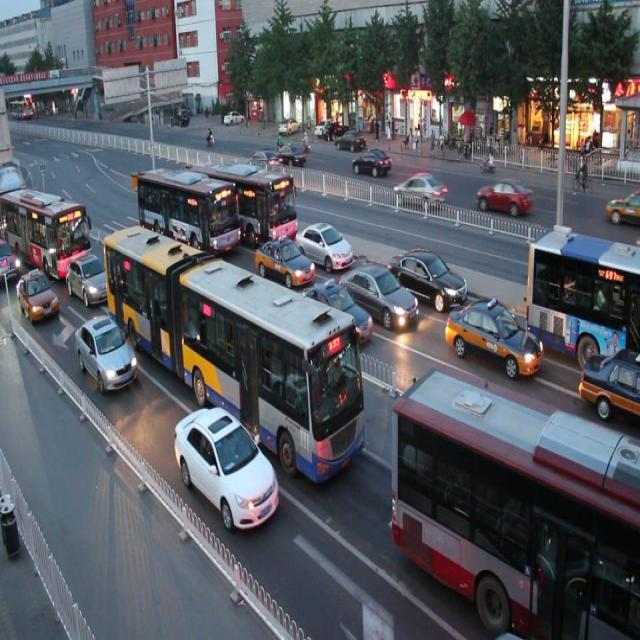car: (174, 402, 278, 528), (446, 294, 544, 382), (337, 258, 416, 331), (293, 278, 372, 349), (75, 312, 138, 394), (390, 243, 468, 309), (578, 345, 640, 419), (253, 230, 314, 289), (294, 214, 352, 273), (64, 251, 116, 307), (16, 270, 58, 320), (1, 238, 22, 292)
van: (102, 218, 366, 482), (392, 370, 640, 640), (524, 225, 640, 360), (136, 160, 240, 262), (191, 153, 298, 248), (1, 182, 90, 272)
